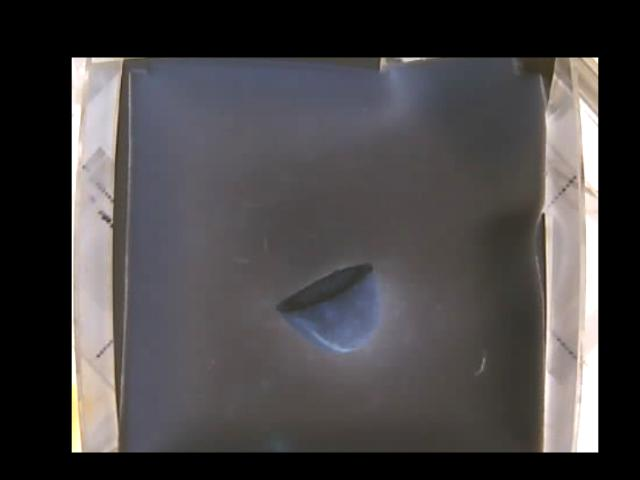Mooli: (274, 262, 380, 352)
